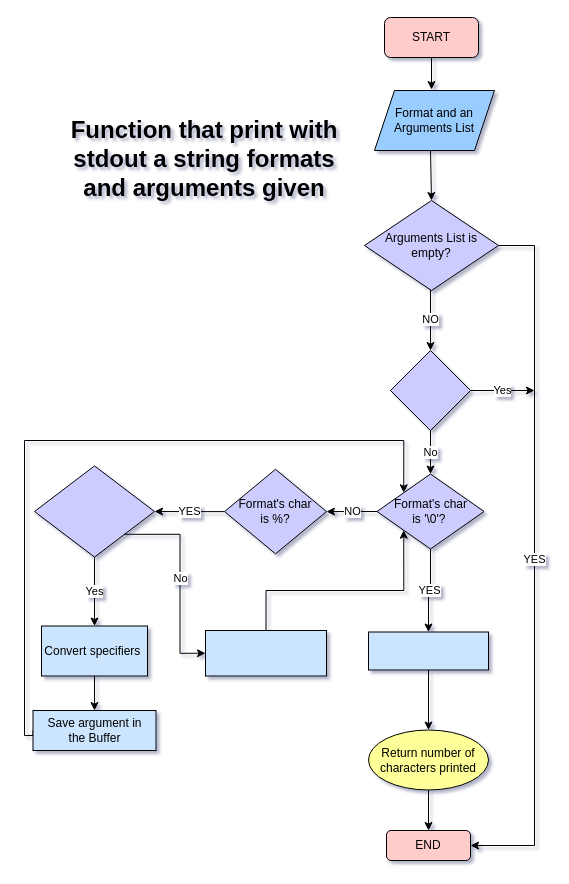
Image size: 569x884. Some labels were removed from this diagram. The centre of each missing label's shape, as x and y in pixels:
"Format is empty?" goes at point (430, 390).
"Format's next char is a specifiers?" goes at point (94, 511).
"Print Buffer of strings" goes at point (428, 650).
"Save char in the buffer" goes at point (265, 653).
